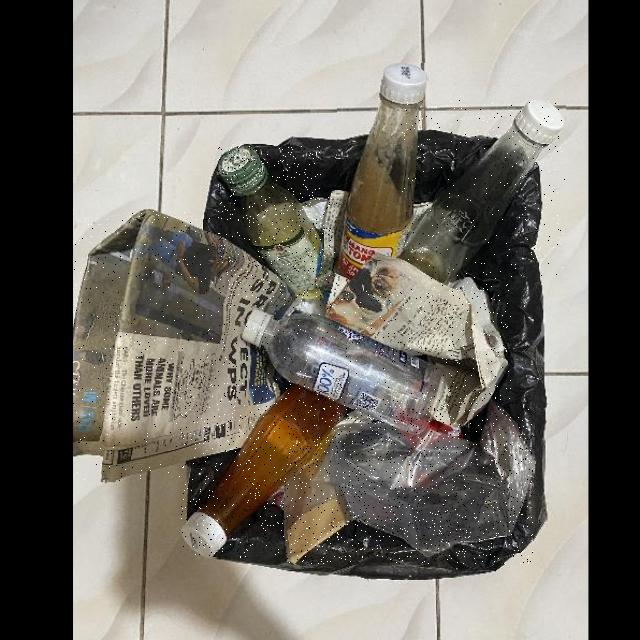glass: (402, 101, 566, 285), (181, 384, 349, 558), (337, 63, 428, 289), (219, 147, 324, 300)
paper: (73, 210, 302, 481), (315, 191, 512, 428)
plastic: (285, 399, 533, 564), (242, 309, 446, 437)
